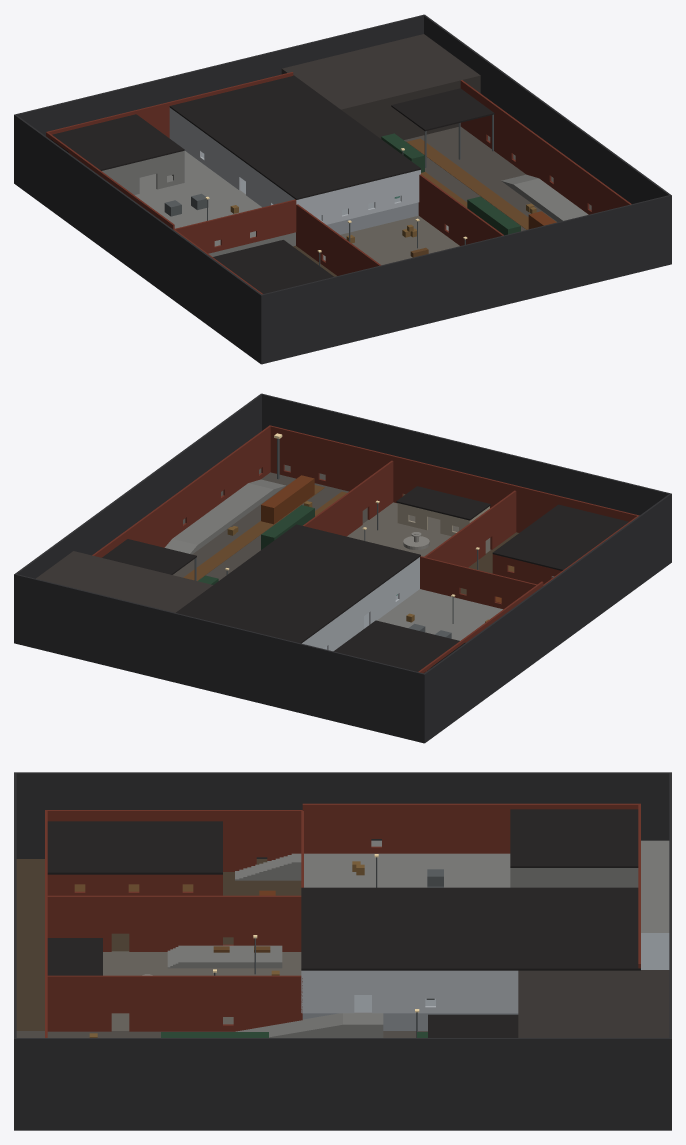
File: vesper_station_map.glb
The picture shows the model from 3 angles, top to bottom: view 1: azimuth 30°, elevation 25°; view 2: azimuth 150°, elevation 25°; view 3: azimuth 270°, elevation 25°; orthographic projection. The views are drawn at different scales.
Visible parts, largest first — view 1: Boundary_boundary, Lab_roof, Ground_rock, Lab_lab_wall, Rail_brick, Power_brick, Spawn_brick, Ground_concrete, Ground_gravel, Power_roof, Barracks_roof, Ground_paving (+6 smaller); view 2: Boundary_boundary, Spawn_brick, Lab_roof, Rail_brick, Ground_rock, Barracks_roof, Power_brick, Power_roof, Ground_concrete, Lab_lab_wall, Ground_gravel, Rail_concrete (+8 smaller); view 3: Boundary_boundary, Lab_roof, Spawn_brick, Power_brick, Ground_rock, Barracks_brick, Ground_concrete, Barracks_roof, Lab_lab_wall, Power_roof, Ground_dirt, Ground_paving (+9 smaller).
Boxes of the visible parts, left/top/right/bottom form: Boundary_boundary: left=14, top=14, right=671, bottom=364; Lab_roof: left=169, top=75, right=420, bottom=199; Ground_rock: left=281, top=34, right=480, bottom=139; Lab_lab_wall: left=169, top=107, right=420, bottom=224; Rail_brick: left=460, top=80, right=631, bottom=214; Power_brick: left=46, top=72, right=296, bottom=253; Spawn_brick: left=296, top=174, right=503, bottom=275; Ground_concrete: left=134, top=151, right=295, bottom=256; Ground_gravel: left=404, top=127, right=591, bottom=231; Power_roof: left=50, top=114, right=184, bottom=170; Barracks_roof: left=213, top=240, right=333, bottom=293; Ground_paving: left=340, top=215, right=459, bottom=265; Boundary_boundary: left=14, top=393, right=671, bottom=743; Spawn_brick: left=270, top=425, right=638, bottom=567; Lab_roof: left=176, top=524, right=420, bottom=643; Rail_brick: left=92, top=425, right=270, bottom=557; Ground_rock: left=36, top=551, right=212, bottom=612; Barracks_roof: left=492, top=504, right=628, bottom=570; Power_brick: left=418, top=556, right=543, bottom=673; Power_roof: left=334, top=620, right=465, bottom=672; Ground_concrete: left=377, top=589, right=502, bottom=640; Lab_lab_wall: left=302, top=557, right=419, bottom=651; Ground_gravel: left=173, top=465, right=367, bottom=580; Rail_concrete: left=164, top=479, right=285, bottom=554; Boundary_boundary: left=14, top=772, right=671, bottom=1130; Lab_roof: left=301, top=887, right=640, bottom=970; Spawn_brick: left=45, top=810, right=302, bottom=1037; Power_brick: left=301, top=803, right=640, bottom=968; Ground_rock: left=518, top=970, right=669, bottom=1037; Barracks_brick: left=45, top=810, right=302, bottom=895; Ground_concrete: left=304, top=840, right=669, bottom=932; Barracks_roof: left=47, top=821, right=222, bottom=874; Lab_lab_wall: left=301, top=970, right=518, bottom=1013; Power_roof: left=510, top=809, right=638, bottom=867; Ground_dirt: left=16, top=859, right=301, bottom=1030; Ground_paving: left=103, top=951, right=301, bottom=1030.
Bounding box in the file's own units: 93.6 × 15 × 97.6.
